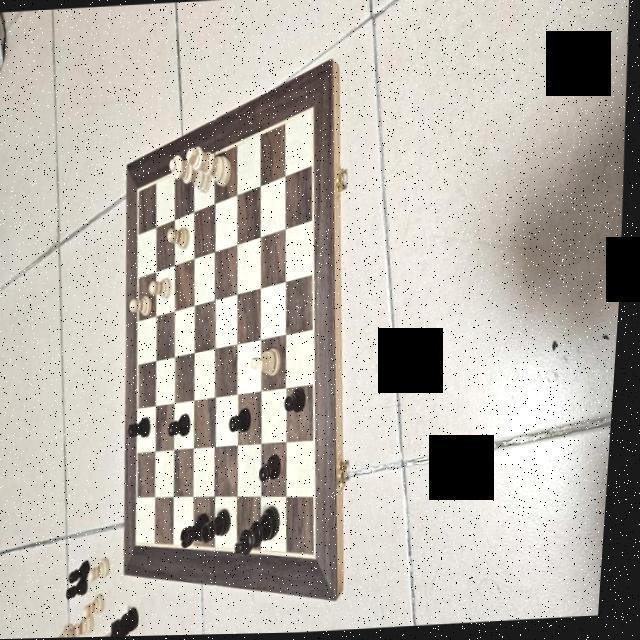chess-table-corners: (316, 543, 326, 564), (309, 101, 318, 116), (136, 182, 144, 196), (140, 535, 146, 549)
